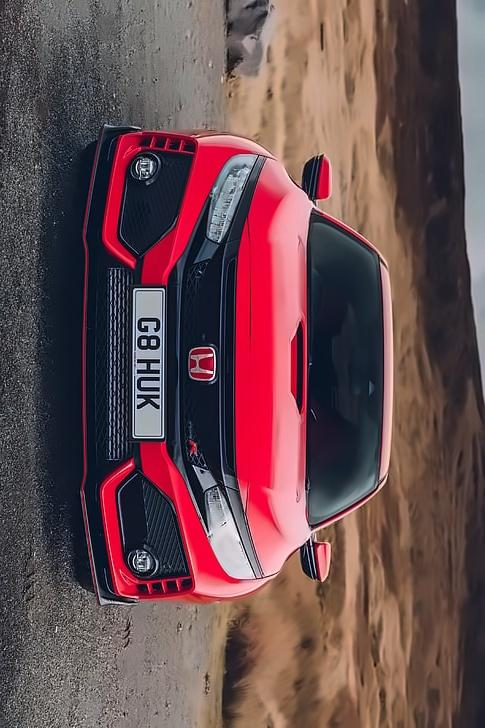Car hood: (227, 152, 313, 577)
Front bumper: (73, 118, 200, 605)
Headlight - -L-: (199, 482, 263, 580)
Headlight - -R-: (195, 152, 266, 248)
Side mirror - -L-: (294, 536, 342, 583)
Side mirror - -R-: (300, 149, 335, 205)
